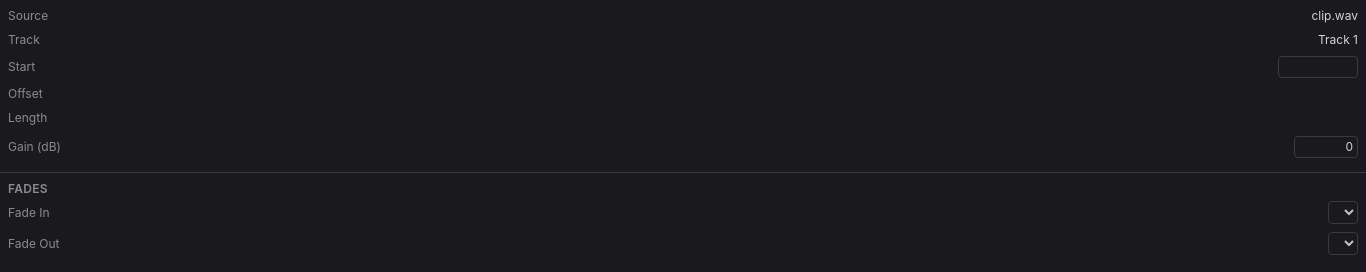
PropertiesPanel (multitrack view) › shows the clamped value in the input after committing an out-of-range gain
Replace the text in the field labelled "Gain (dB)" with "100" at (1326, 147), box [1294, 136, 1358, 158]
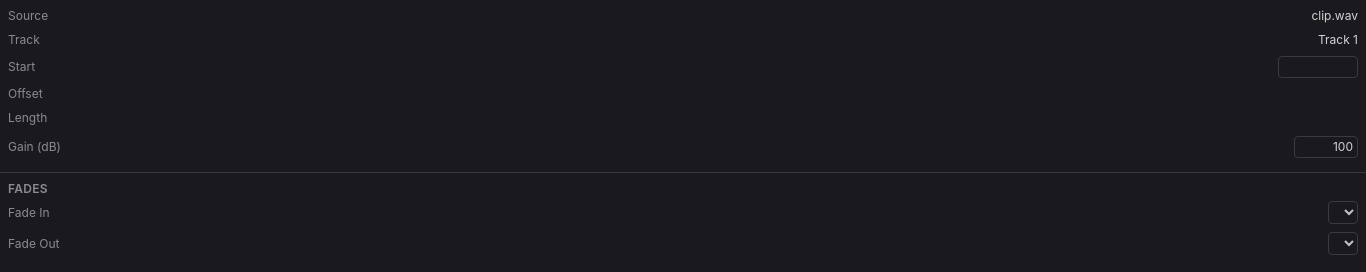
Leave the field labelled "Gain (dB)", box [1294, 136, 1358, 158]
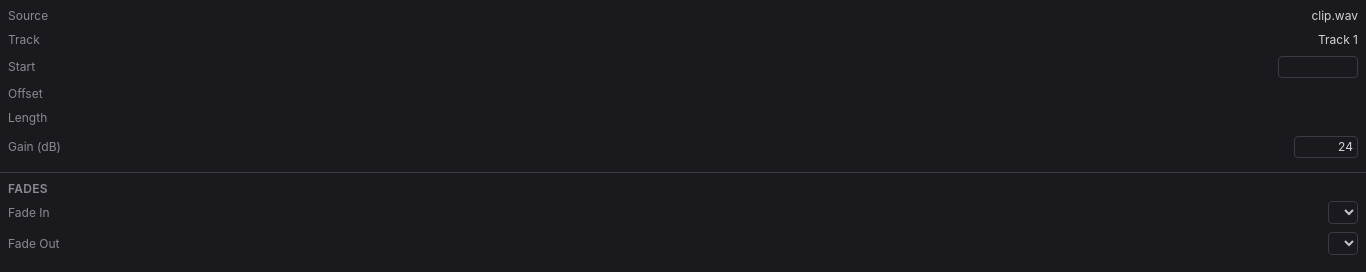
Now the field labelled "Gain (dB)" holds "24", box [1294, 136, 1358, 158]
